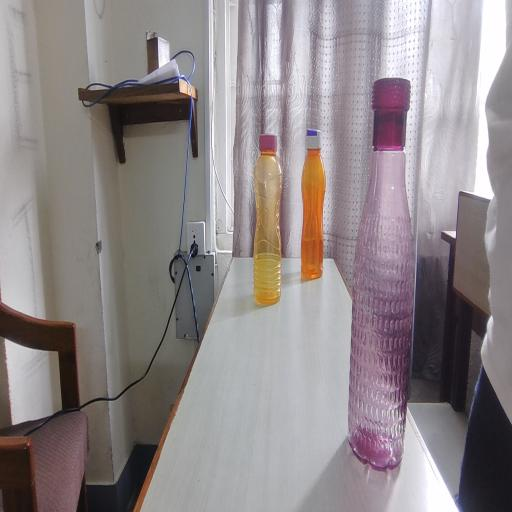Bottle: (362, 72, 428, 491), (292, 126, 338, 276), (255, 145, 292, 312)
